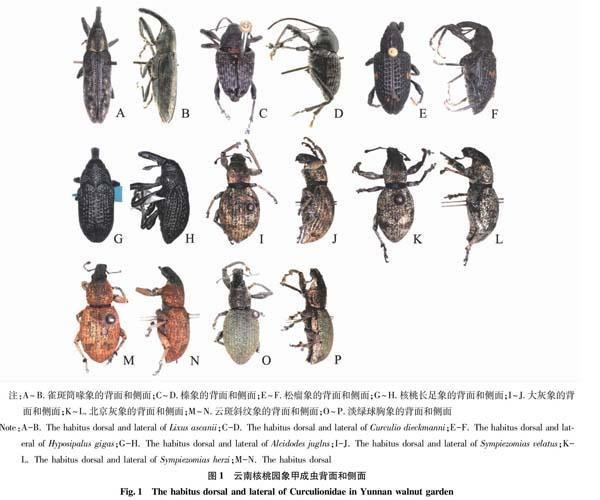Curculionidae: (351, 145, 437, 265), (266, 17, 344, 130), (438, 147, 504, 266), (198, 16, 262, 135), (206, 139, 278, 244), (135, 266, 200, 376), (211, 260, 273, 364), (429, 20, 496, 115), (74, 260, 128, 374), (364, 20, 424, 114), (130, 151, 190, 244), (132, 7, 179, 125), (72, 6, 118, 124), (280, 267, 333, 365), (294, 136, 337, 244), (72, 146, 120, 242)
